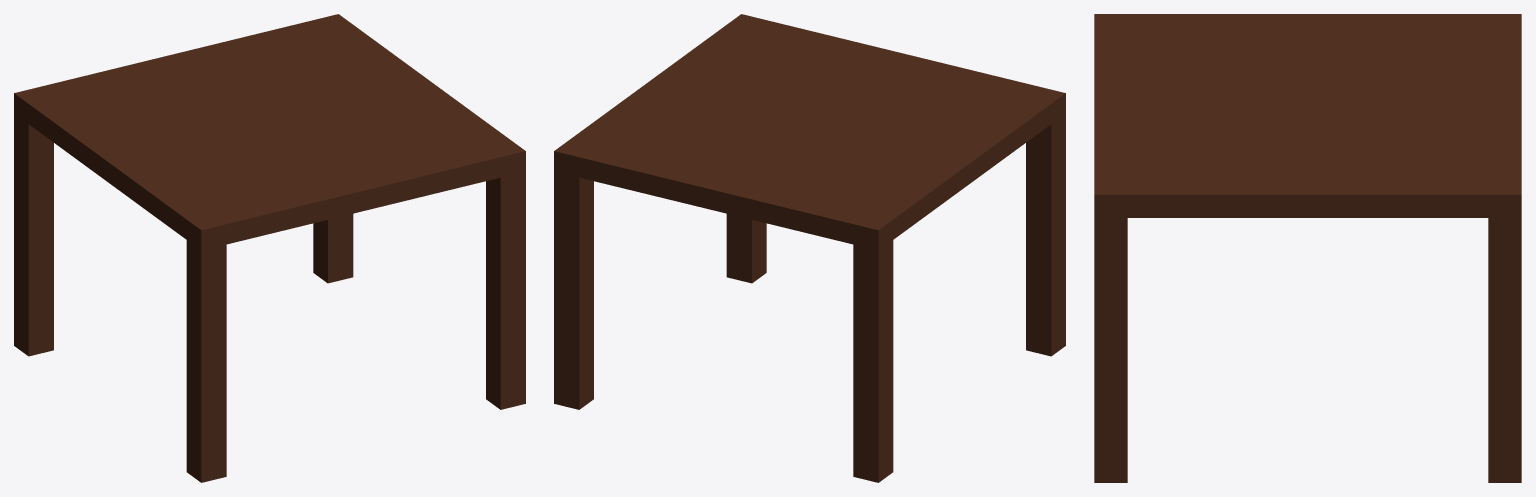
The model's file is CouchsideTable.fbx.
The picture shows the model from 3 angles, left to right: view 1: azimuth 30°, elevation 25°; view 2: azimuth 150°, elevation 25°; view 3: azimuth 270°, elevation 25°; orthographic projection. The views are drawn at different scales.
Parts seen in each view (by area): view 1: SideTable; view 2: SideTable; view 3: SideTable.
Boxes of the visible parts, box(x1,y1,x2,y2) form: SideTable: box(14, 14, 525, 482); SideTable: box(554, 14, 1065, 482); SideTable: box(1094, 14, 1521, 482).
Bounding box in the file's own units: 0.3225 × 0.3225 × 0.2399.
